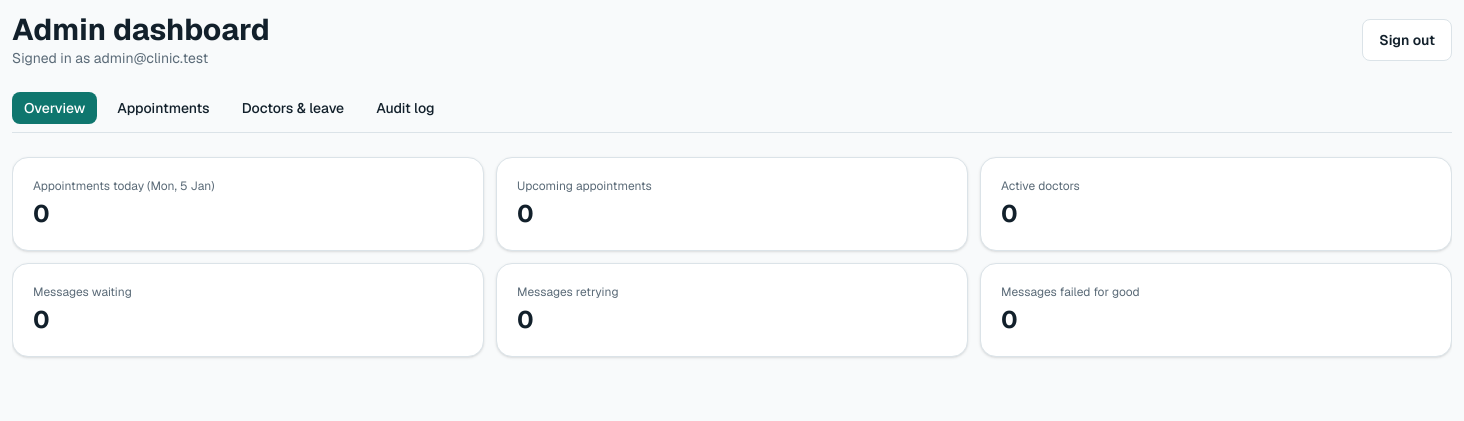
Test: admin dashboard › surfaces action errors without losing the list
Step 1. Click the tab "Appointments" → x=163, y=108, box x1=105 y1=92 x2=222 y2=124
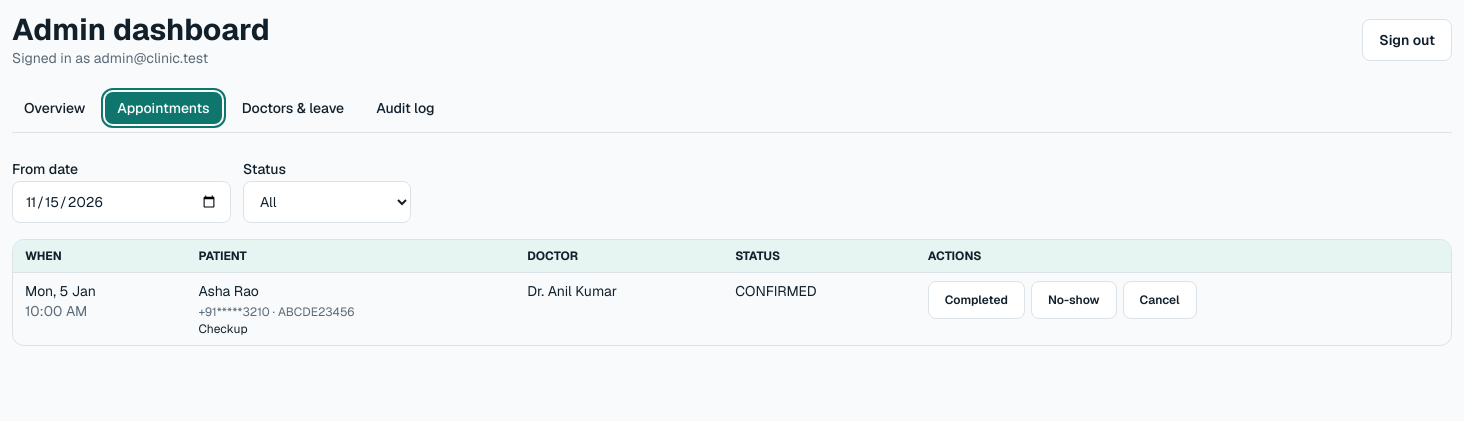
Step 2. Click the button with aria-label "Mark ABCDE23456 no-show" → x=1074, y=300, box x1=1031 y1=281 x2=1117 y2=319
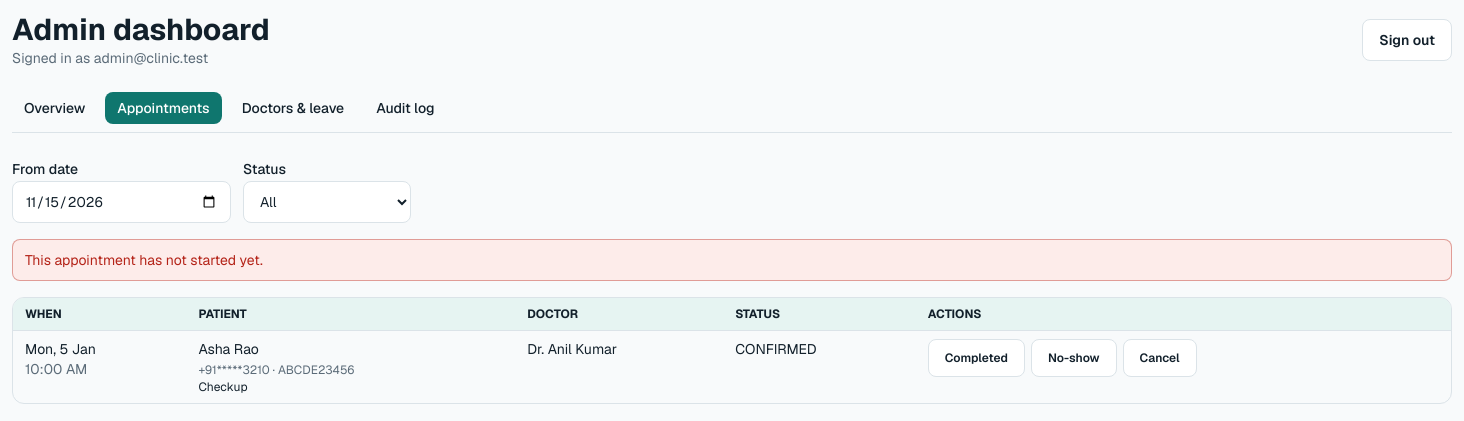
Check: the table named "Appointments" is shown, box x1=13 y1=298 x2=1451 y2=403
Check: the text "This appointment has not started yet." is shown, box x1=12 y1=239 x2=1452 y2=281
